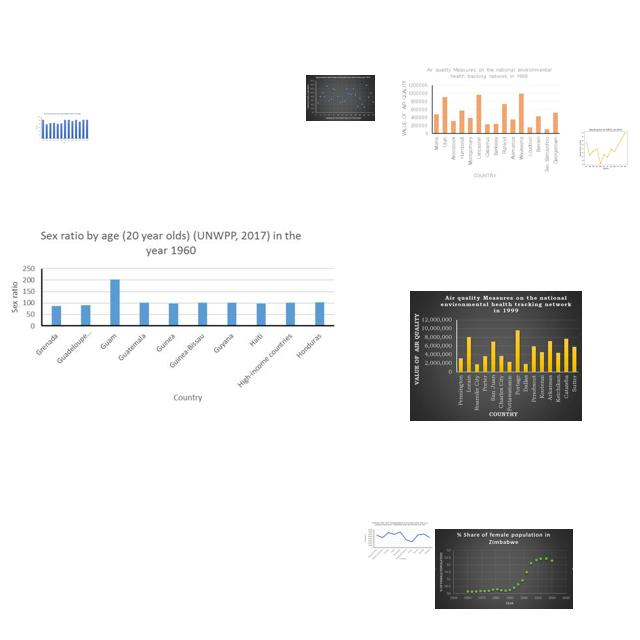Graph: (4, 223, 338, 405), (410, 291, 582, 421), (397, 65, 563, 182), (435, 529, 573, 609), (306, 75, 375, 121), (362, 521, 434, 561), (576, 126, 634, 170), (35, 112, 91, 145)
